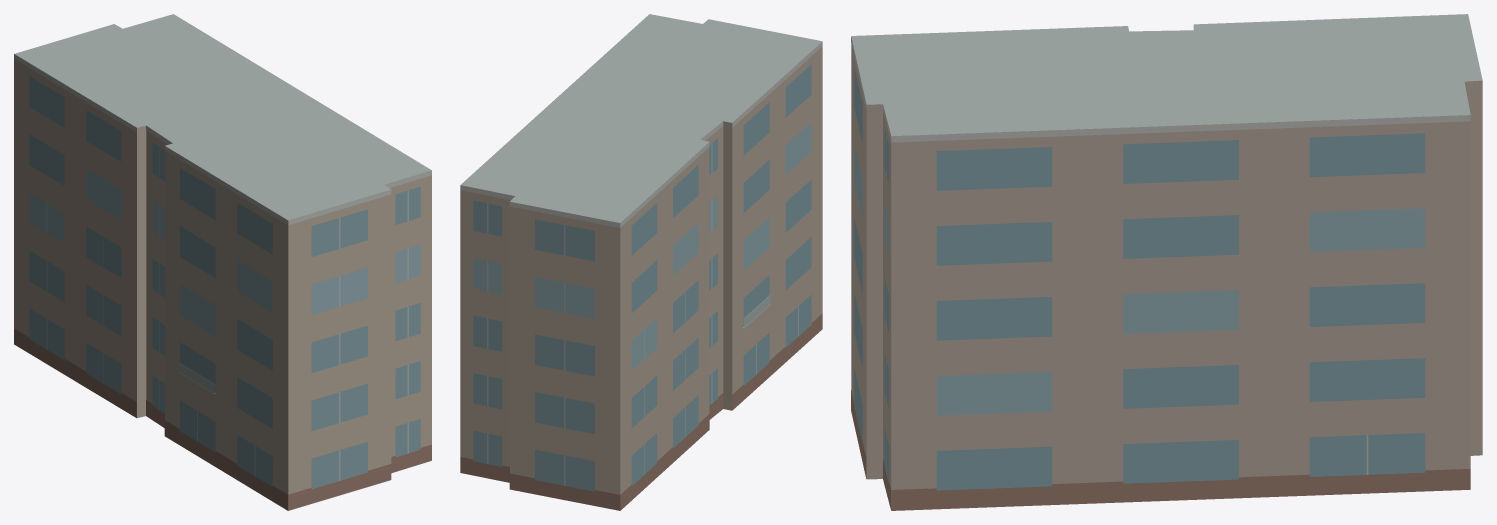
File: survey-upis-32537236.glb
The picture shows the model from 3 angles, left to right: view 1: azimuth 30°, elevation 25°; view 2: azimuth 150°, elevation 25°; view 3: azimuth 270°, elevation 25°; orthographic projection. The views are drawn at different scales.
Parts seen in each view (by area): view 1: survey-upis-32537236.tmp; view 2: survey-upis-32537236.tmp; view 3: survey-upis-32537236.tmp.
Part boxes in pixels (x1,y1,x2,y2): survey-upis-32537236.tmp: [14, 14, 431, 510]; survey-upis-32537236.tmp: [460, 14, 822, 510]; survey-upis-32537236.tmp: [851, 14, 1482, 510].
Bounding box in the file's own units: 10.08 × 14.4 × 22.01.
